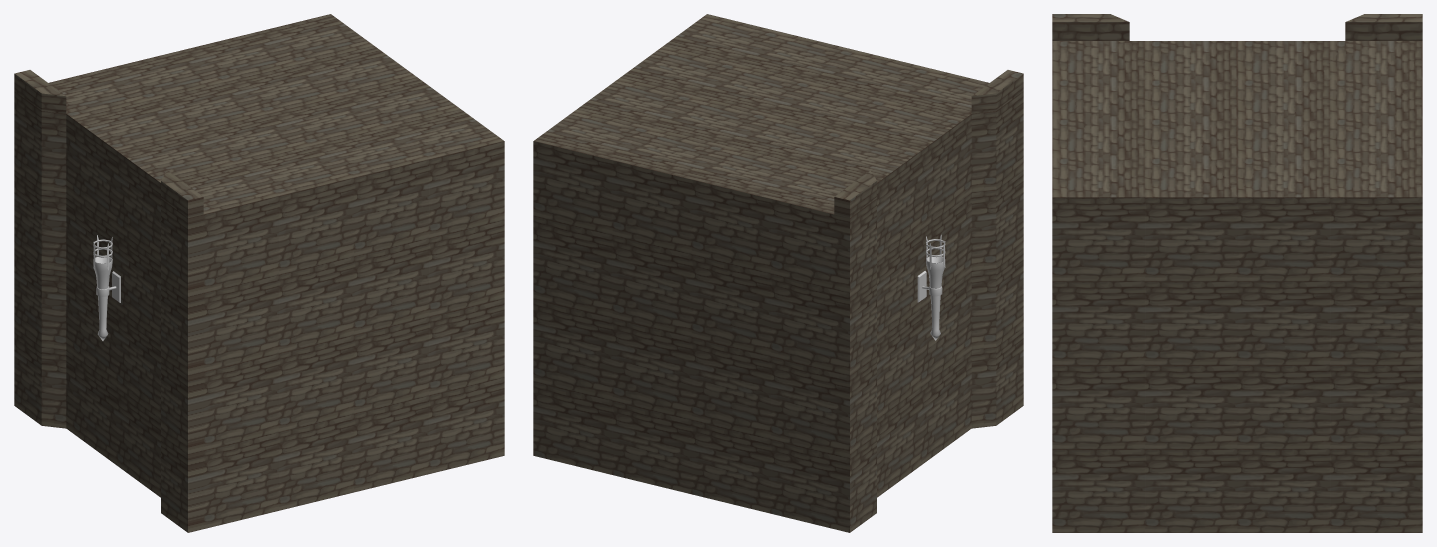
File: WR_Wall_torch.FBX
3 renders of one model, left to right at view 1: azimuth 30°, elevation 25°; view 2: azimuth 150°, elevation 25°; view 3: azimuth 270°, elevation 25°, orthographic. The views are drawn at different scales.
Parts seen in each view (by area): view 1: Box020, Barra5; view 2: Box020, Barra5; view 3: Box020.
Part boxes in pixels (x1,y1,x2,y2): Box020: (14,14,504,532); Barra5: (93,235,120,340); Box020: (533,14,1023,532); Barra5: (917,234,945,340); Box020: (1052,14,1422,532).
Size of the model in its own units: 27.43 by 26.82 by 25.4.
